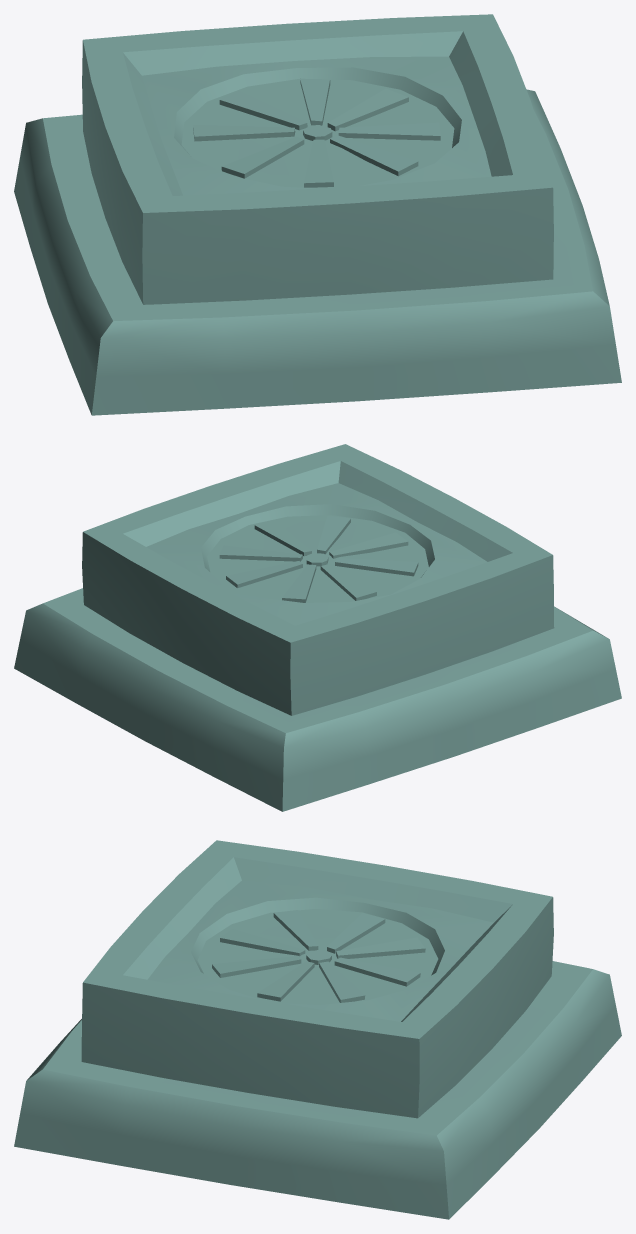
File: air conditioner (1).fbx
The picture shows the model from 3 angles, top to bottom: view 1: azimuth 30°, elevation 25°; view 2: azimuth 150°, elevation 25°; view 3: azimuth 270°, elevation 25°; orthographic projection. The views are drawn at different scales.
Parts seen in each view (by area): view 1: air conditioner, fan; view 2: air conditioner, fan; view 3: air conditioner, fan.
Boxes of the visible parts, left/top/right/bottom form: air conditioner: left=14, top=14, right=621, bottom=415; fan: left=193, top=78, right=440, bottom=187; air conditioner: left=14, top=444, right=621, bottom=811; fan: left=219, top=515, right=418, bottom=602; air conditioner: left=14, top=840, right=621, bottom=1219; fan: left=212, top=910, right=425, bottom=1002.
Bounding box in the file's own units: 713 × 196 × 713.
